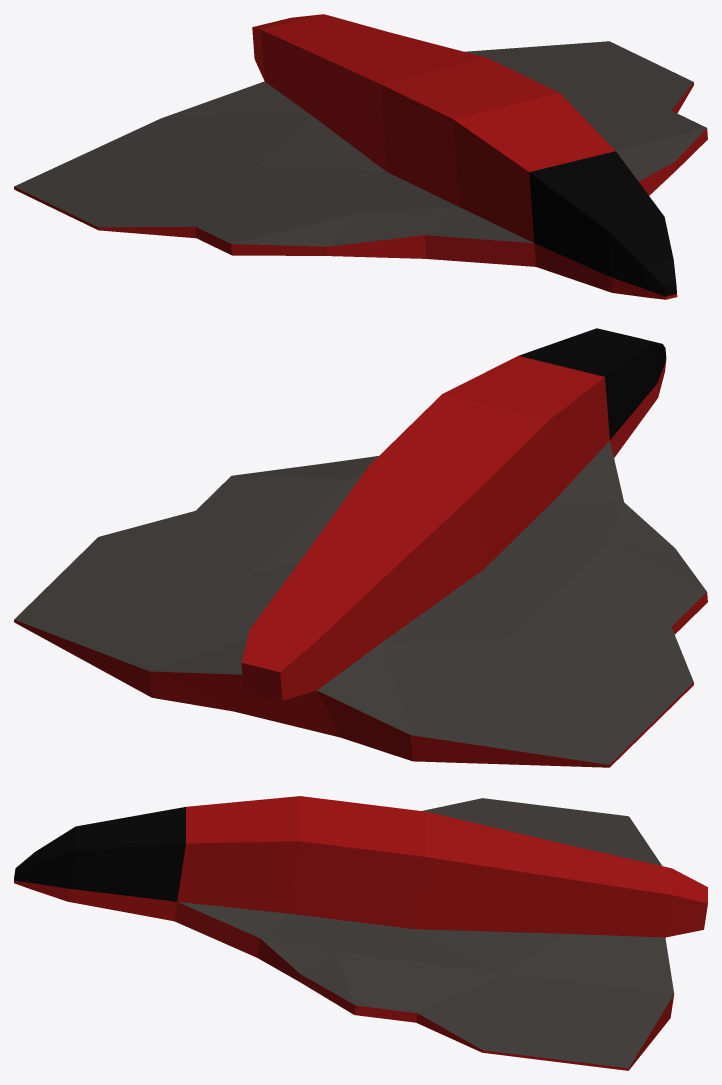
File: flybyship.obj
3 views of the same model, one above another, from view 1: azimuth 30°, elevation 25°; view 2: azimuth 150°, elevation 25°; view 3: azimuth 270°, elevation 25° (orthographic). The views are drawn at different scales.
Parts seen in each view (by area): view 1: Cube; view 2: Cube; view 3: Cube.
Boxes of the visible parts, x1,y1,x2,y2 form: Cube: (14,14,707,299); Cube: (14,328,707,767); Cube: (14,796,707,1070).
Bounding box in the file's own units: 3.89 × 1.04 × 4.52.
